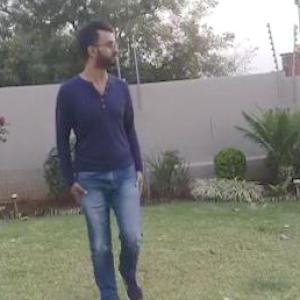follow: (54, 13, 154, 295)
